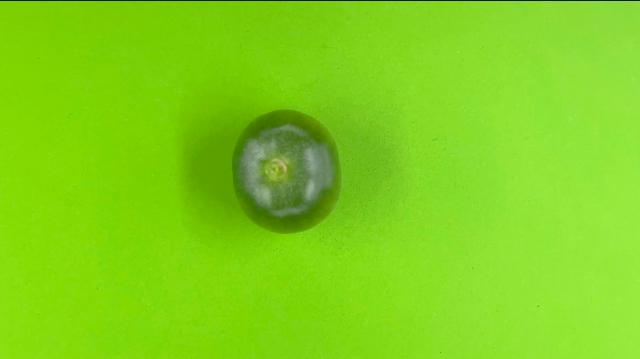Fruit Maturation: (229, 108, 346, 237)
